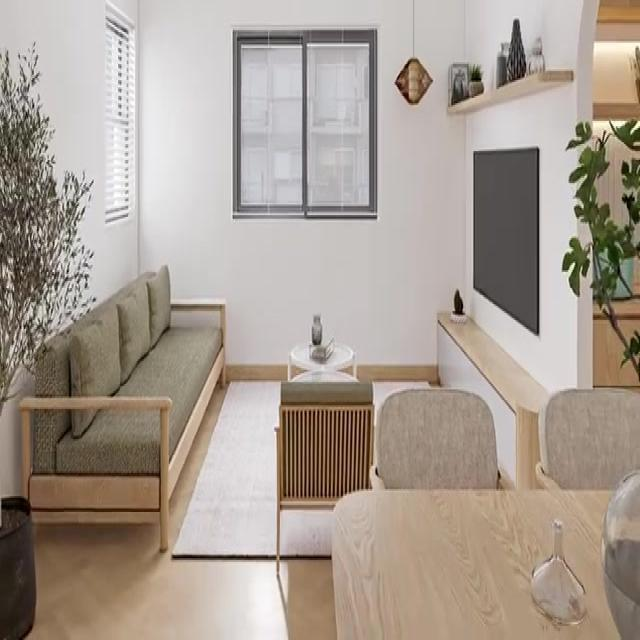obstacle: (18, 263, 226, 551), (330, 486, 637, 638), (275, 376, 373, 574), (370, 386, 512, 489), (535, 386, 639, 490)
